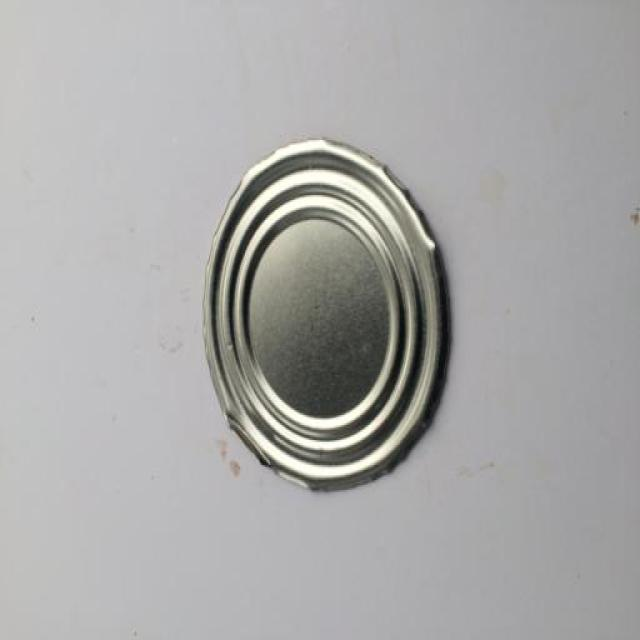Metal: (201, 135, 454, 492)
